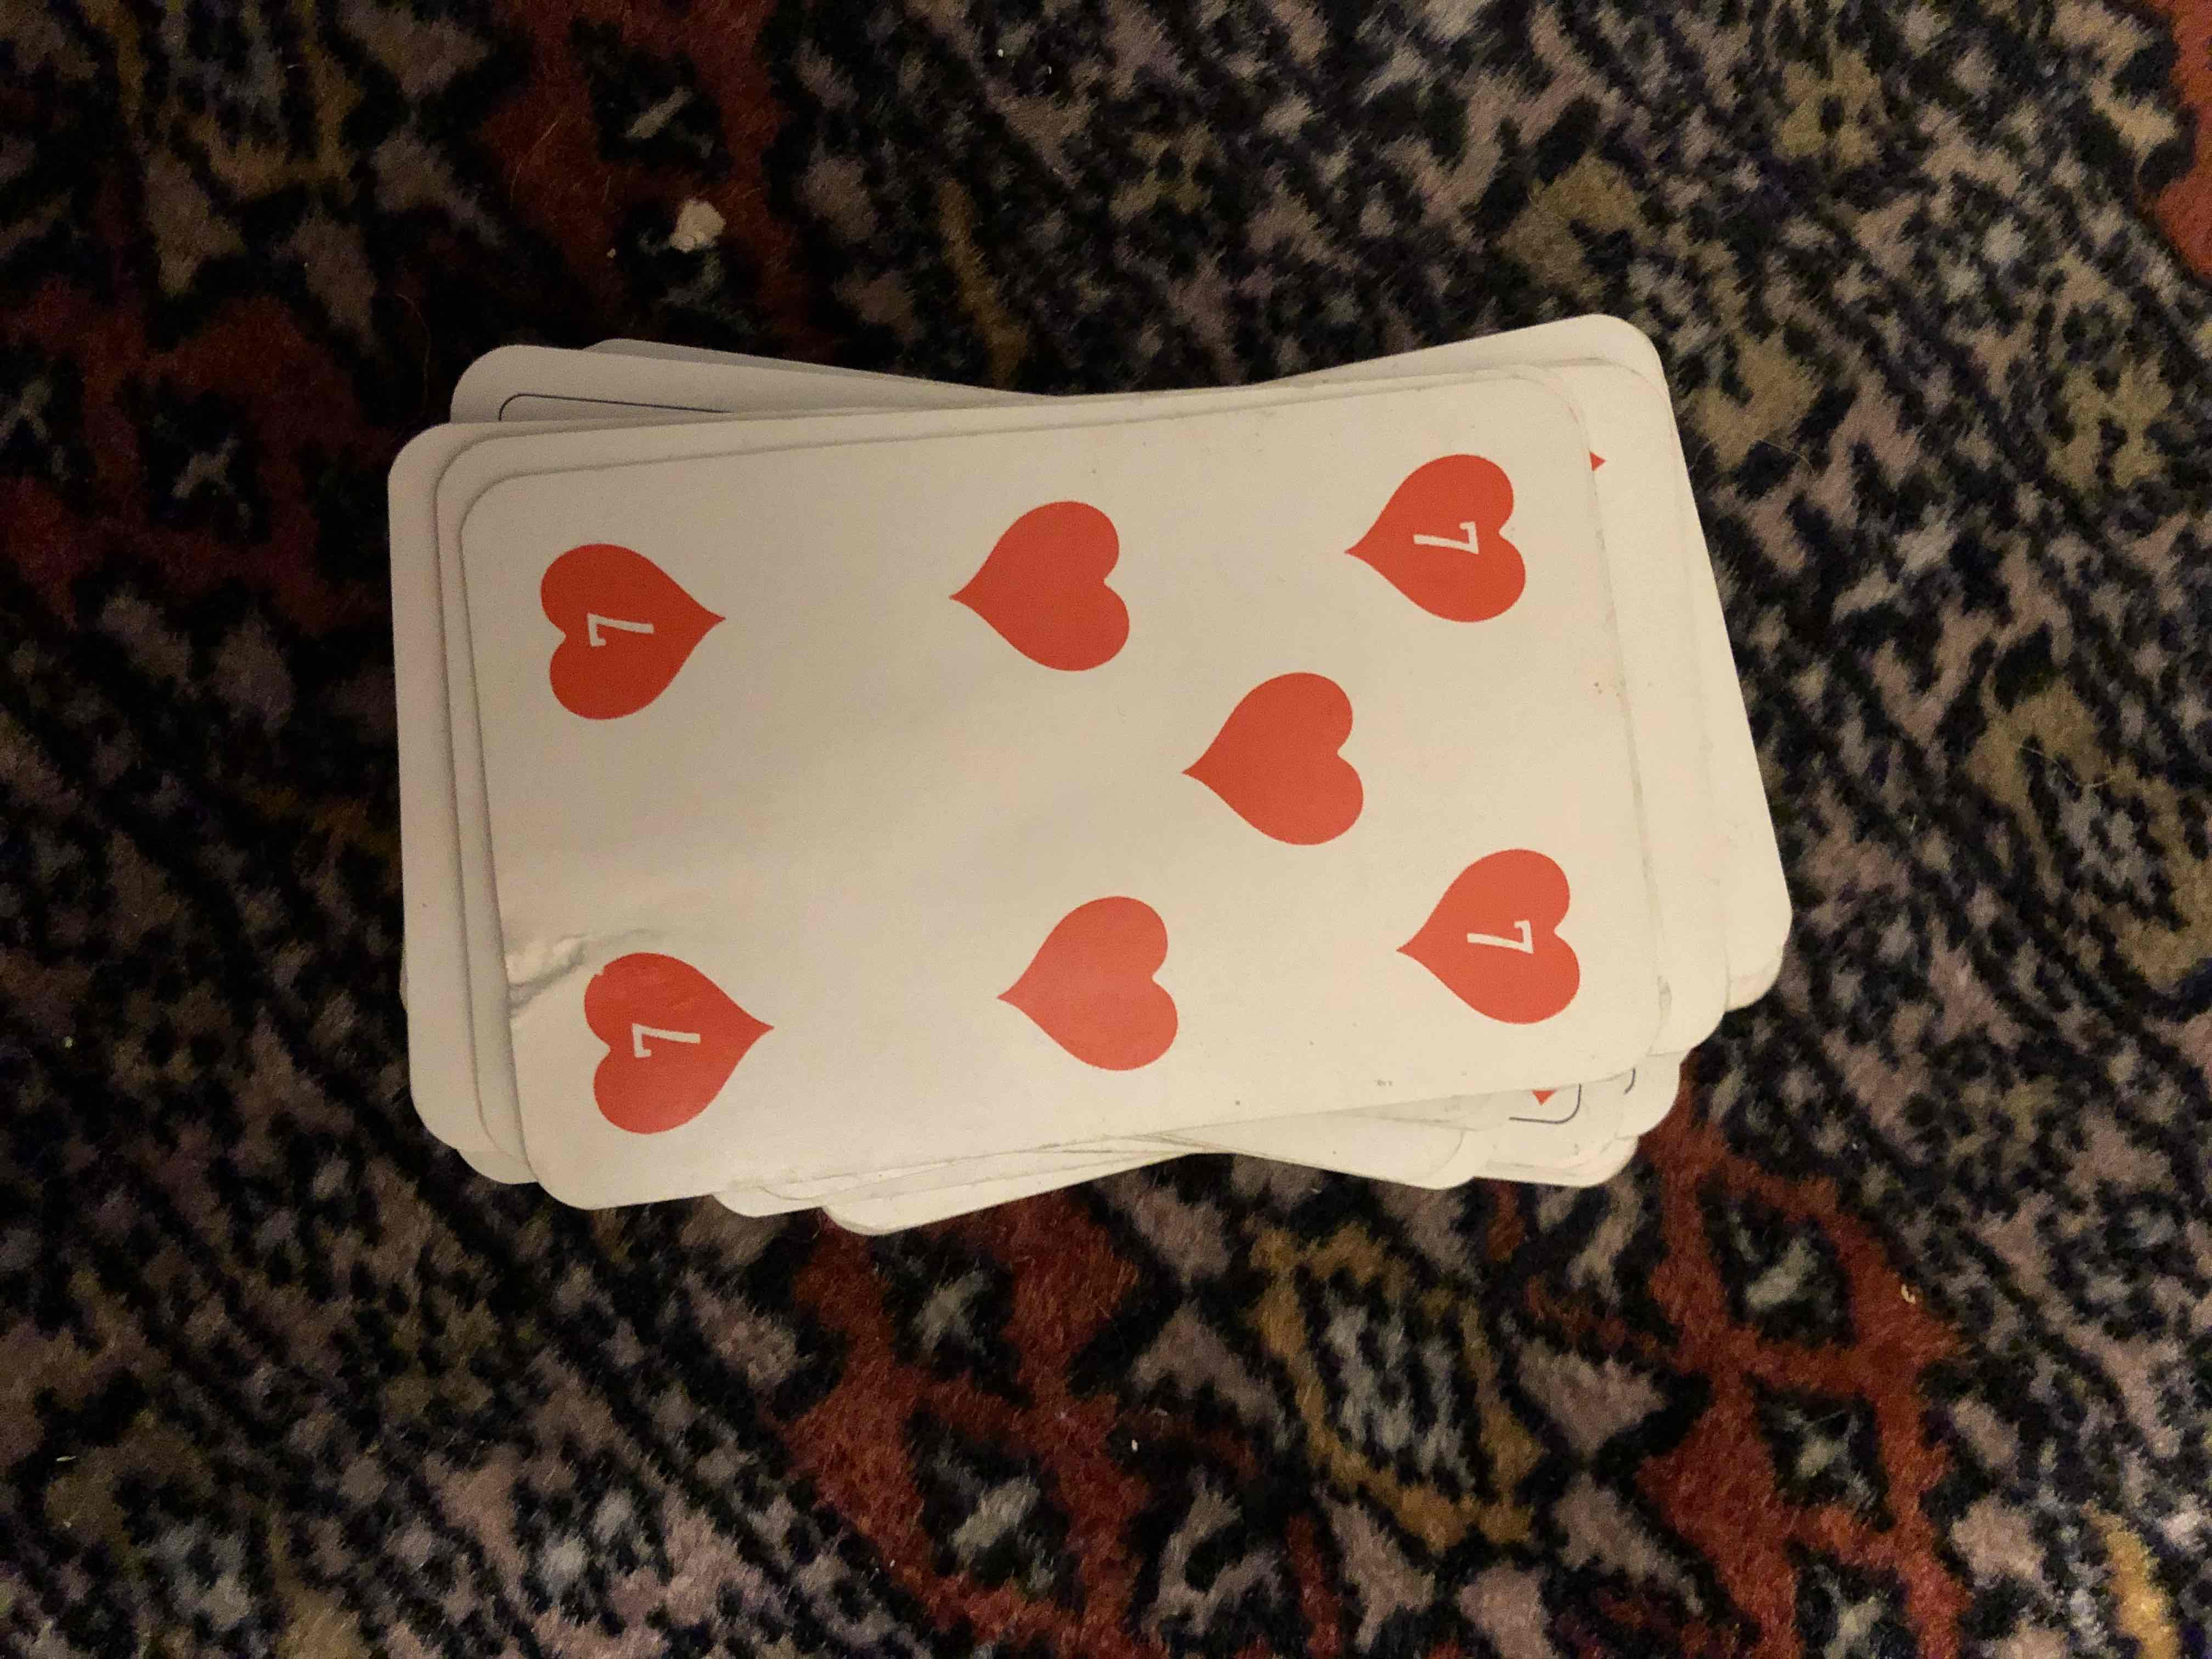hearts7: (451, 439, 1710, 1133)
